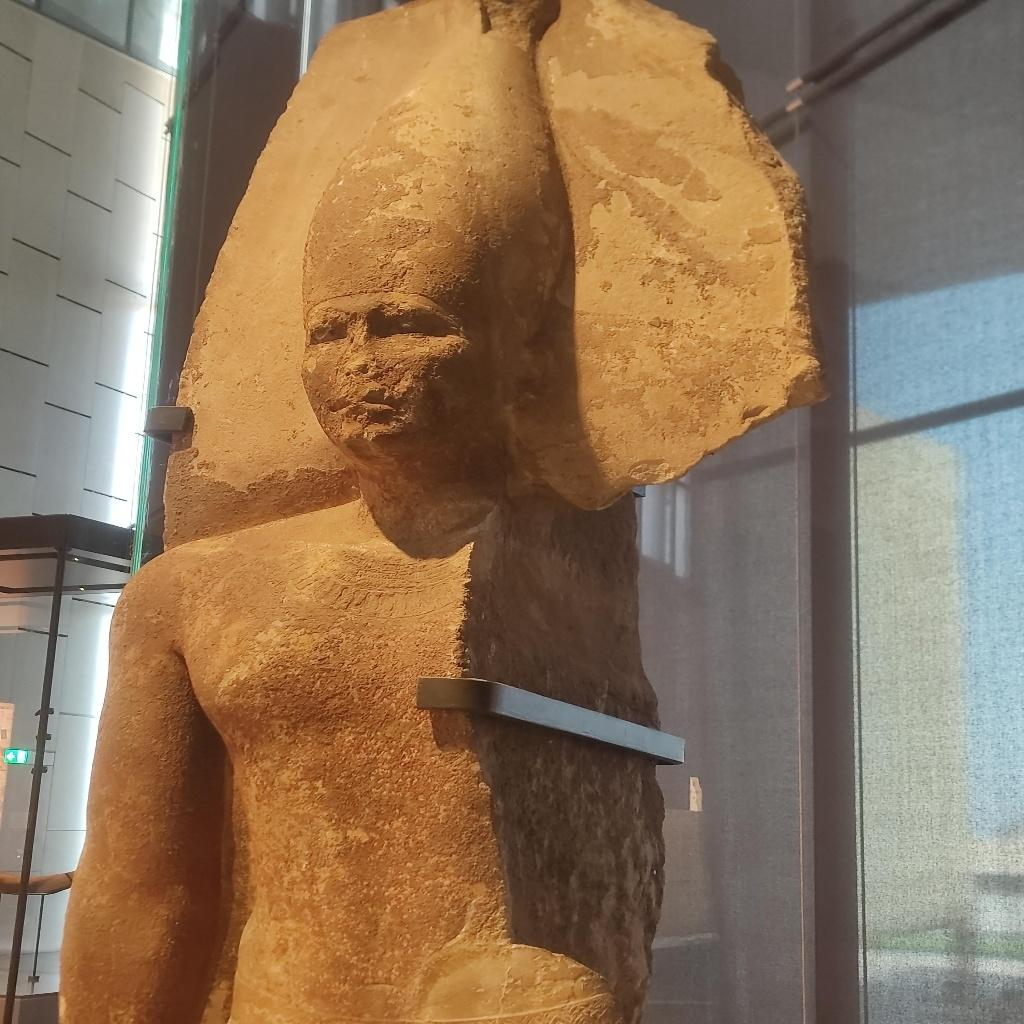Statue of Snefru: (54, 2, 831, 1022)
